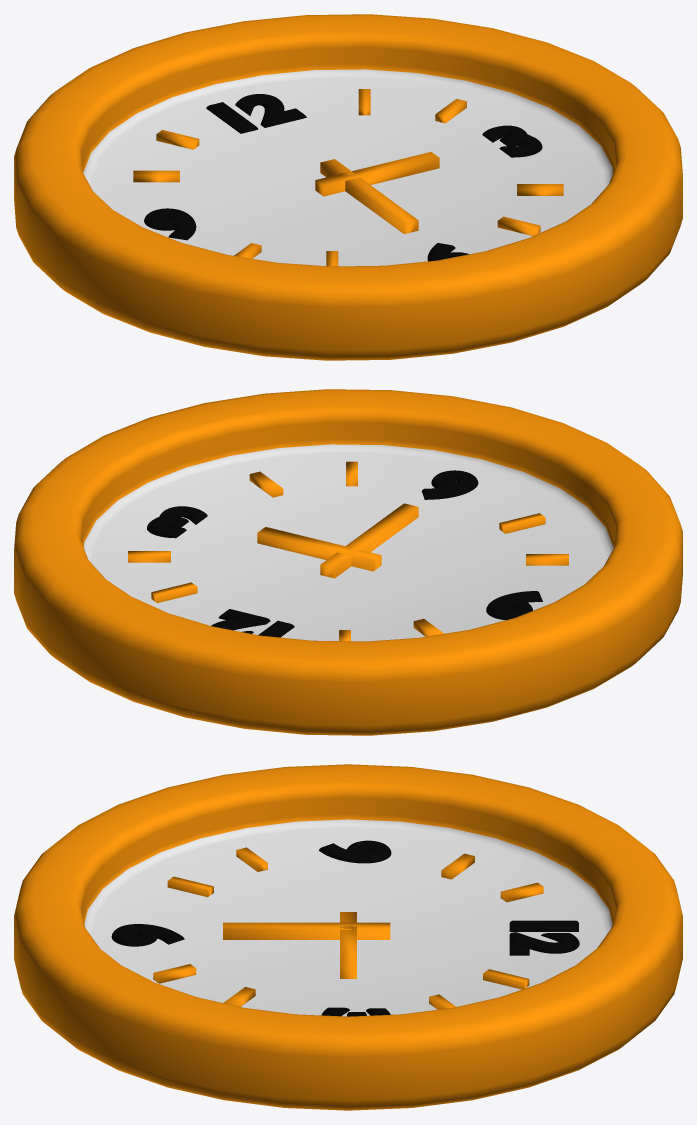
The model's file is clock.glb.
The picture shows the model from 3 angles, top to bottom: view 1: azimuth 30°, elevation 25°; view 2: azimuth 150°, elevation 25°; view 3: azimuth 270°, elevation 25°; orthographic projection.
Visible parts, largest first — view 1: Clock; view 2: Clock; view 3: Clock.
Part boxes in pixels (x1=…): Clock: x1=14, y1=14, x2=682, y2=360; Clock: x1=14, y1=389, x2=682, y2=735; Clock: x1=14, y1=764, x2=682, y2=1110.
Size of the model in its own units: 8 by 1 by 8.
